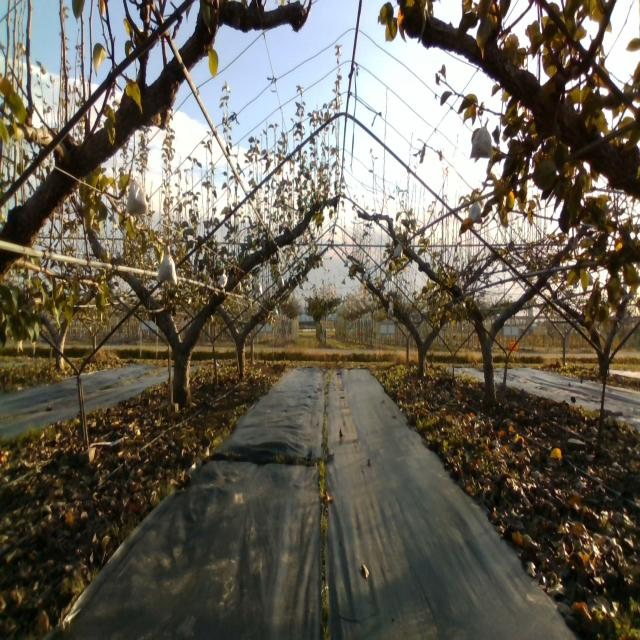pearbags: (124, 176, 149, 219), (469, 117, 493, 160), (158, 244, 178, 286), (467, 200, 482, 224)
